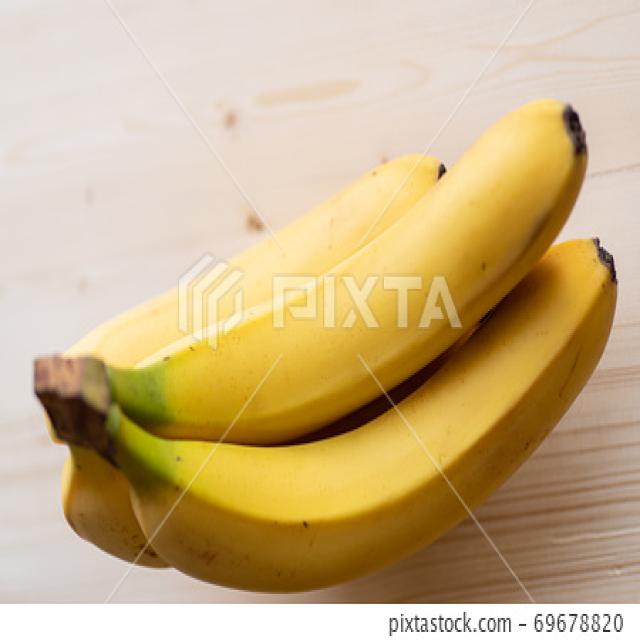banana: (33, 89, 619, 596)
